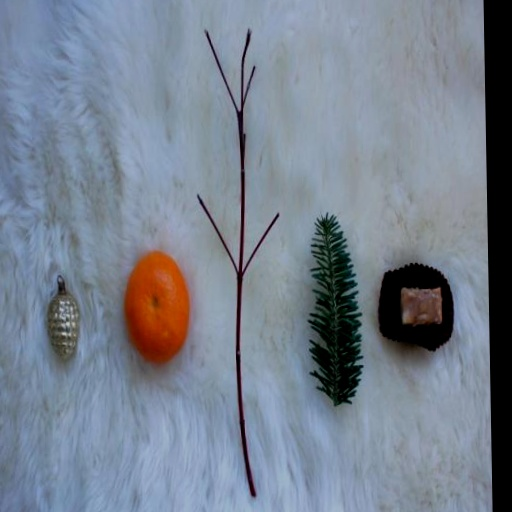fruit: (124, 251, 189, 363)
